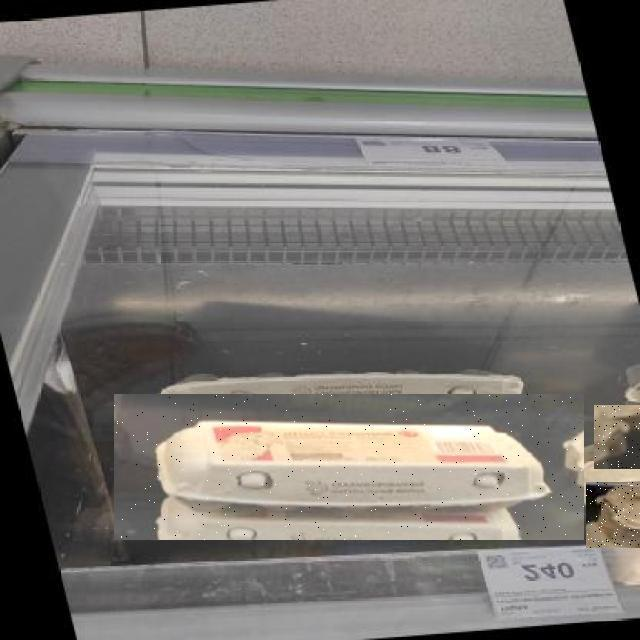Eggs: (114, 395, 584, 541), (586, 483, 640, 549), (594, 405, 640, 469)
